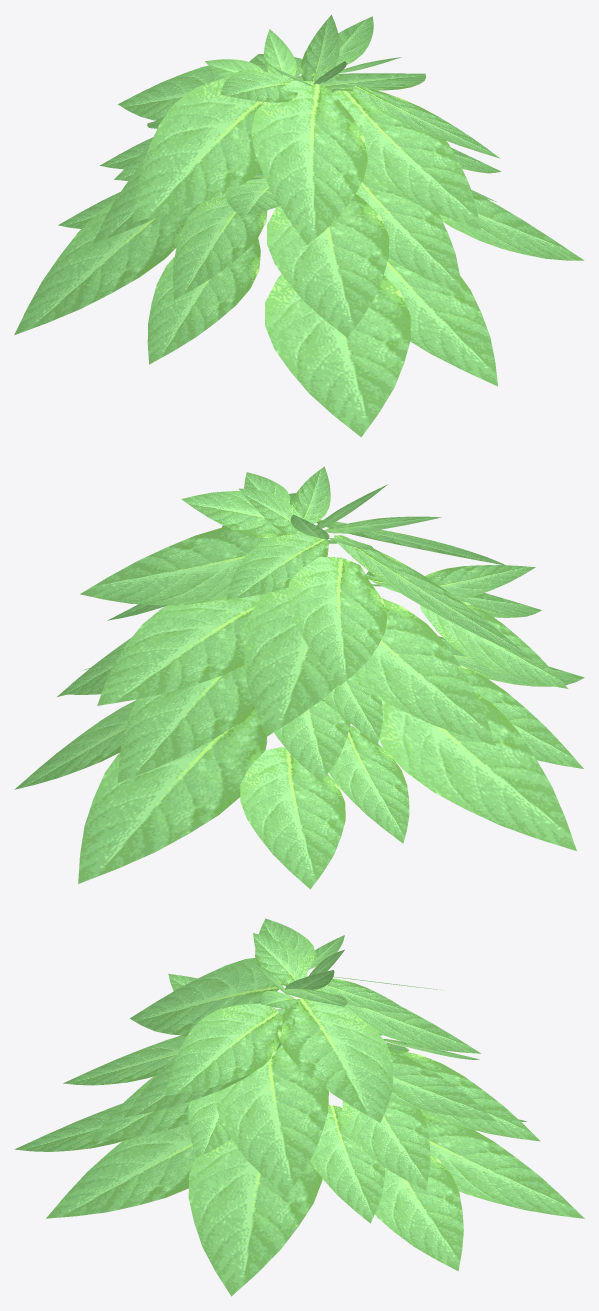
File: large-leaf-bunch.glb
3 views of the same model, one above another, from view 1: azimuth 30°, elevation 25°; view 2: azimuth 150°, elevation 25°; view 3: azimuth 270°, elevation 25° (orthographic). The views are drawn at different scales.
Parts seen in each view (by area): view 1: Plane.032, Plane.020, Plane.021, Plane.013, Plane.030, Plane.008, Plane.029, Plane.031, Plane.024, Plane.019, Plane.036, Plane.001 (+11 smaller); view 2: Plane.034, Plane.030, Plane.002, Plane.023, Plane.028, Plane.022, Plane.010, Plane.015, Plane.003, Plane.033, Plane.021, Plane.005 (+16 smaller); view 3: Plane.036, Plane, Plane.003, Plane.029, Plane.001, Plane.034, Plane.035, Plane.020, Plane.004, Plane.037, Plane.002, Plane.010 (+12 smaller).
Part boxes in pixels (<box>): Plane.032: <box>265,274,410,437</box>; Plane.020: <box>251,80,367,245</box>; Plane.021: <box>133,78,263,221</box>; Plane.013: <box>267,194,388,337</box>; Plane.030: <box>14,200,199,335</box>; Plane.008: <box>333,87,480,229</box>; Plane.029: <box>384,258,497,386</box>; Plane.031: <box>147,237,260,364</box>; Plane.024: <box>355,173,462,295</box>; Plane.019: <box>173,193,267,299</box>; Plane.036: <box>439,193,584,260</box>; Plane.001: <box>353,85,499,158</box>; Plane.034: <box>78,709,267,883</box>; Plane.030: <box>379,691,576,850</box>; Plane.002: <box>97,594,262,705</box>; Plane.023: <box>350,598,495,745</box>; Plane.028: <box>240,747,345,889</box>; Plane.022: <box>287,557,387,685</box>; Plane.010: <box>117,665,254,782</box>; Plane.015: <box>243,557,369,736</box>; Plane.003: <box>80,527,286,605</box>; Plane.033: <box>328,725,409,843</box>; Plane.021: <box>334,535,533,660</box>; Plane.005: <box>226,533,328,599</box>; Plane.036: <box>188,1139,322,1296</box>; Plane: <box>215,1045,328,1196</box>; Plane.003: <box>277,998,393,1122</box>; Plane.029: <box>46,1124,195,1218</box>; Plane.001: <box>165,1003,282,1095</box>; Plane.034: <box>422,1113,584,1218</box>; Plane.035: <box>375,1154,463,1271</box>; Plane.020: <box>130,958,285,1035</box>; Plane.004: <box>342,1101,430,1190</box>; Plane.037: <box>310,1105,384,1223</box>; Plane.002: <box>389,1052,496,1121</box>; Plane.010: <box>389,1049,540,1141</box>.
Bounding box in the file's own units: 5.61 × 2.76 × 5.84.
1 material, 1 textured.
